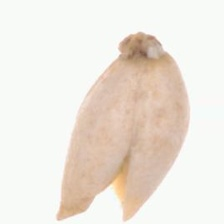L1: (56, 167, 133, 221), (114, 33, 171, 67)
L2: (56, 32, 190, 223)
